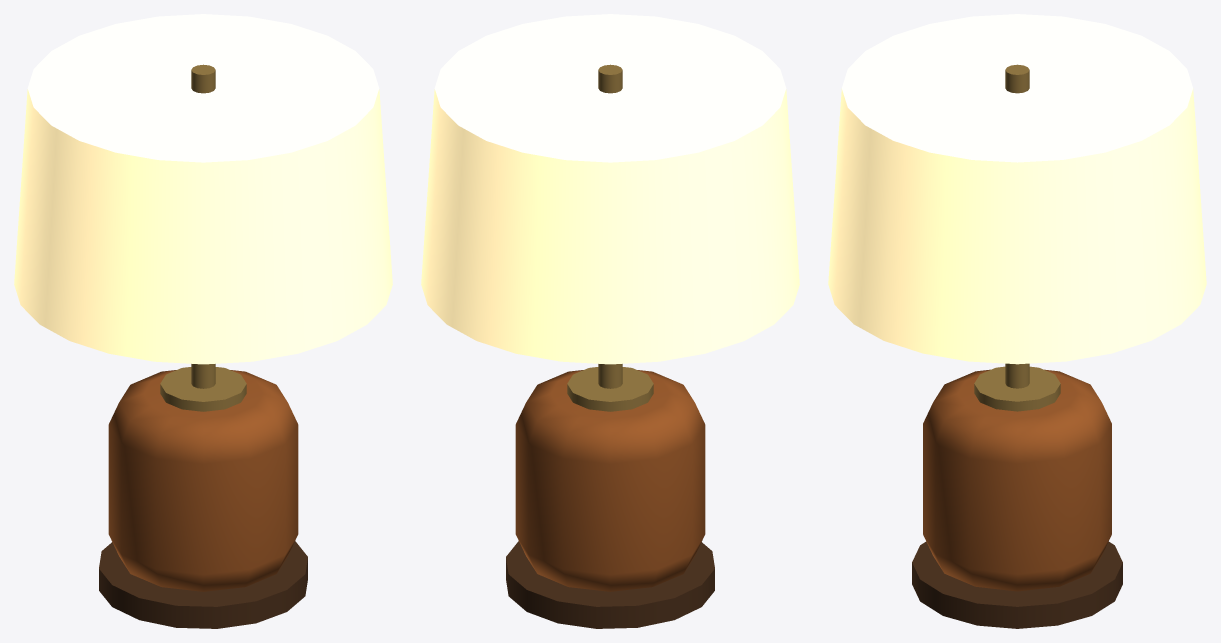
Rendered from lamp.glb.
The picture shows the model from 3 angles, left to right: view 1: azimuth 30°, elevation 25°; view 2: azimuth 150°, elevation 25°; view 3: azimuth 270°, elevation 25°; orthographic projection.
Parts seen in each view (by area): view 1: LP_Shade, LP_Base, LP_Foot, LP_Collar, LP_Neck; view 2: LP_Shade, LP_Base, LP_Foot, LP_Collar, LP_Neck; view 3: LP_Shade, LP_Base, LP_Foot, LP_Collar, LP_Neck.
Part boxes in pixels (x1,y1,x2,y2): LP_Shade: [14, 14, 392, 364]; LP_Base: [108, 370, 298, 591]; LP_Foot: [99, 541, 307, 628]; LP_Collar: [160, 367, 246, 411]; LP_Neck: [191, 64, 215, 388]; LP_Shade: [421, 14, 799, 364]; LP_Base: [515, 370, 705, 591]; LP_Foot: [506, 541, 714, 628]; LP_Collar: [567, 367, 653, 411]; LP_Neck: [598, 64, 622, 388]; LP_Shade: [828, 14, 1206, 364]; LP_Base: [923, 369, 1111, 591]; LP_Foot: [912, 541, 1122, 628]; LP_Collar: [974, 366, 1060, 411]; LP_Neck: [1005, 64, 1029, 388].
Size of the model in its own units: 0.28 by 0.42 by 0.28.
